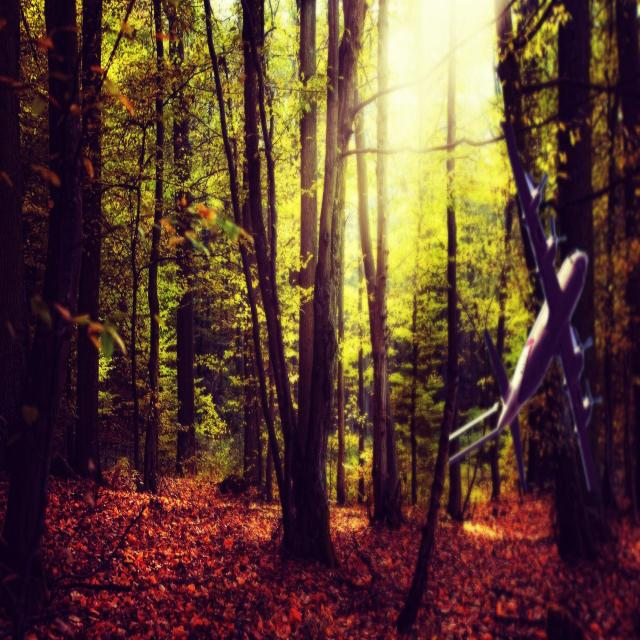airplane: (447, 116, 601, 497)
